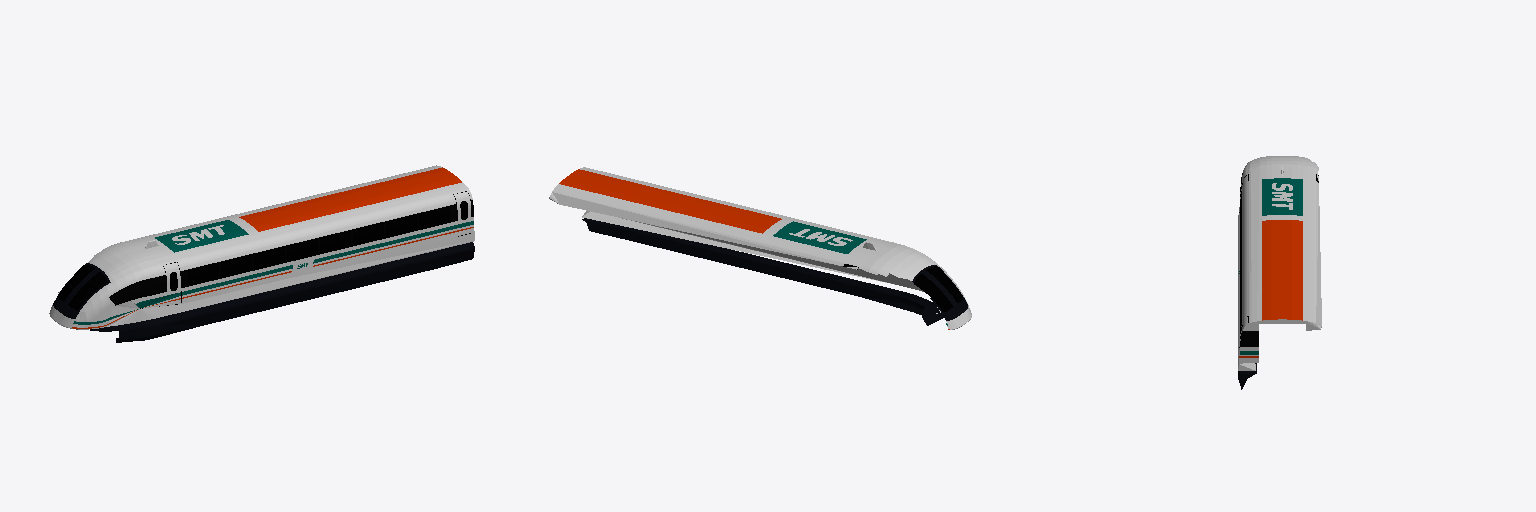
The model's file is train.obj.
The picture shows the model from 3 angles: view 1: azimuth 30°, elevation 25°; view 2: azimuth 150°, elevation 25°; view 3: azimuth 270°, elevation 25°; orthographic projection.
Parts seen in each view (by area): view 1: train_Group6; view 2: train_Group6; view 3: train_Group6.
Part boxes in pixels (x1,y1,x2,y2): train_Group6: (49,165,474,342); train_Group6: (549,167,971,329); train_Group6: (1238,156,1321,389).
Size of the model in its own units: 8.75 by 1.65 by 1.6.